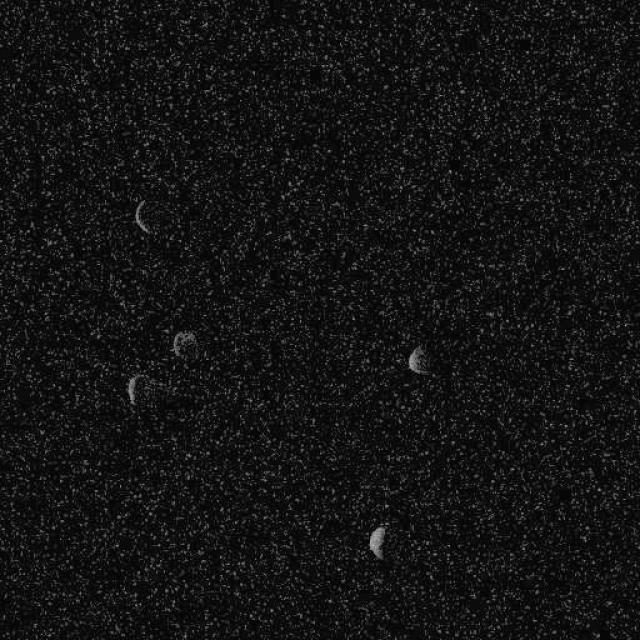D2: (125, 372, 170, 408), (132, 197, 154, 235), (406, 344, 432, 375), (172, 329, 198, 360), (367, 525, 385, 560)
